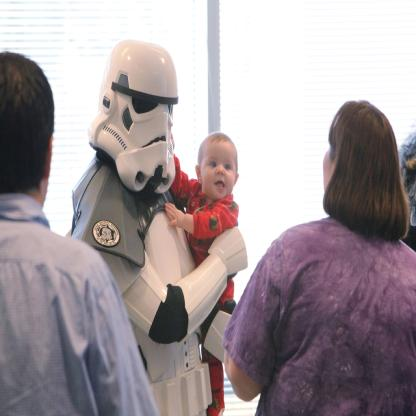Helmet: (86, 38, 181, 200)
